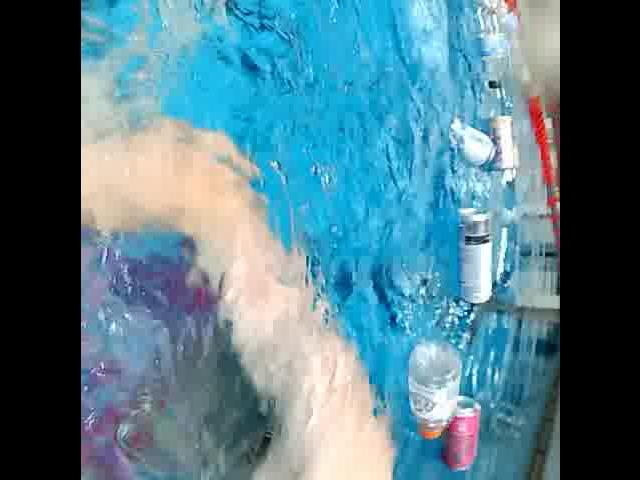Bottle: (404, 332, 464, 444), (464, 0, 504, 94), (459, 0, 521, 50)
Can: (448, 193, 496, 314), (439, 390, 484, 478), (442, 105, 497, 169), (483, 110, 518, 172)
